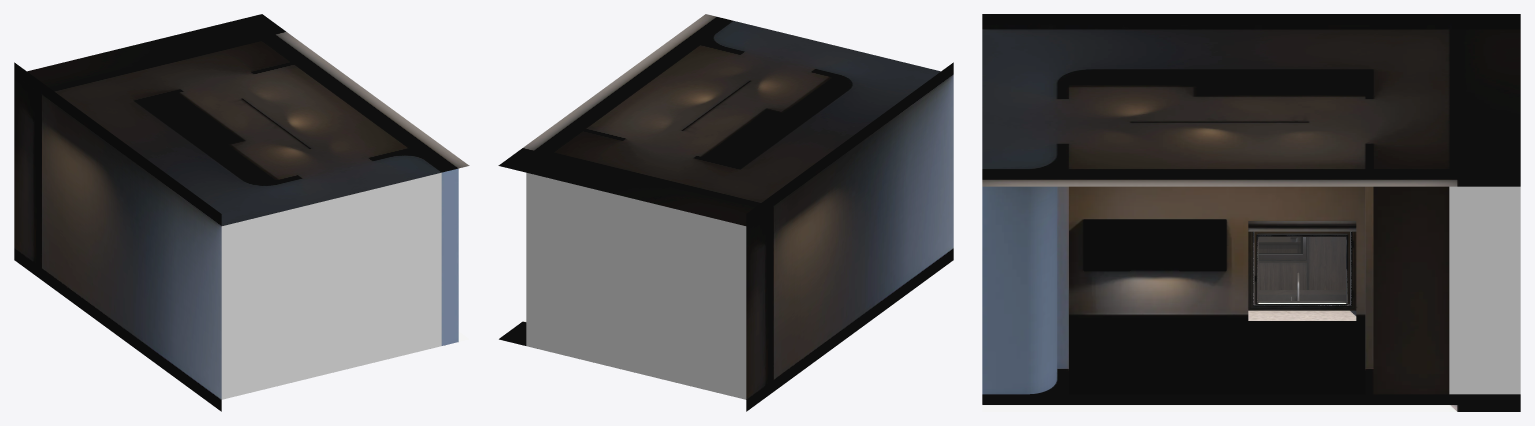
3 views of the same model, side by side, from view 1: azimuth 30°, elevation 25°; view 2: azimuth 150°, elevation 25°; view 3: azimuth 270°, elevation 25° (orthographic). The views are drawn at different scales.
Parts seen in each view (by area): view 1: Ceiling.001, Plane.002, Plane; view 2: Ceiling.001, Plane.002, Plane, Plane.007; view 3: Plane.002, Ceiling.001, Plane, Plane.007, GlassCupboard, Body, win_singleRectangleClosed, Plane.021, Obj3d66-15222411-183-733_004, Plane.022.
Part boxes in pixels (<box>): Ceiling.001: <box>27,14,469,225</box>; Plane.002: <box>14,62,458,411</box>; Plane: <box>221,172,441,399</box>; Ceiling.001: <box>498,14,940,225</box>; Plane.002: <box>746,62,953,411</box>; Plane: <box>526,172,746,399</box>; Plane.007: <box>499,319,526,345</box>; Plane.002: <box>982,14,1520,394</box>; Ceiling.001: <box>982,29,1520,186</box>; Plane: <box>1449,186,1520,394</box>; Plane.007: <box>982,368,1520,411</box>; GlassCupboard: <box>1083,219,1226,271</box>; Body: <box>1257,234,1347,302</box>; win_singleRectangleClosed: <box>1248,231,1356,320</box>; Plane.021: <box>1258,237,1345,289</box>; Obj3d66-15222411-183-733_004: <box>1258,237,1306,259</box>; Plane.022: <box>1258,290,1345,300</box>.
Bounding box in the file's own units: 3.89 × 2.96 × 5.63.
Materials: 27 (24 with a texture image).
